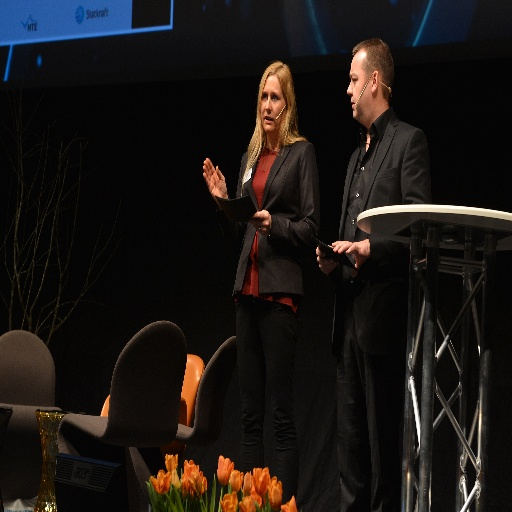hand: (201, 153, 231, 211), (330, 239, 367, 278), (246, 208, 272, 238), (316, 245, 337, 276)
